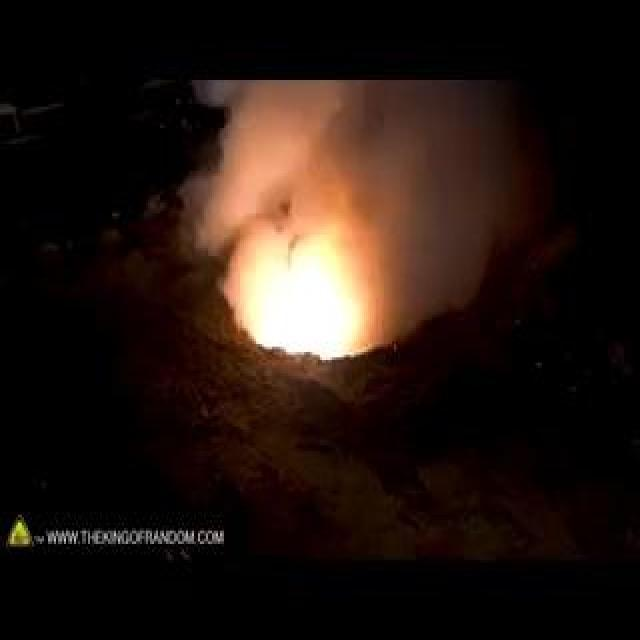Fire: (217, 208, 369, 376)
Smoke: (259, 80, 481, 245)
